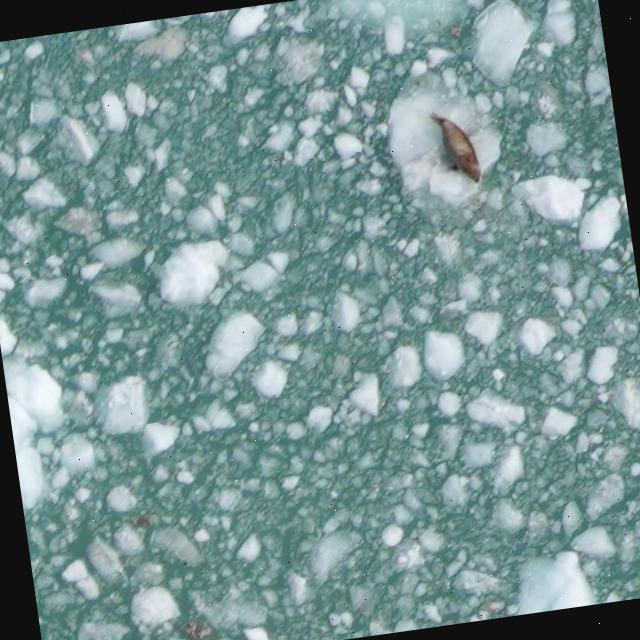seal: (422, 103, 490, 191)
